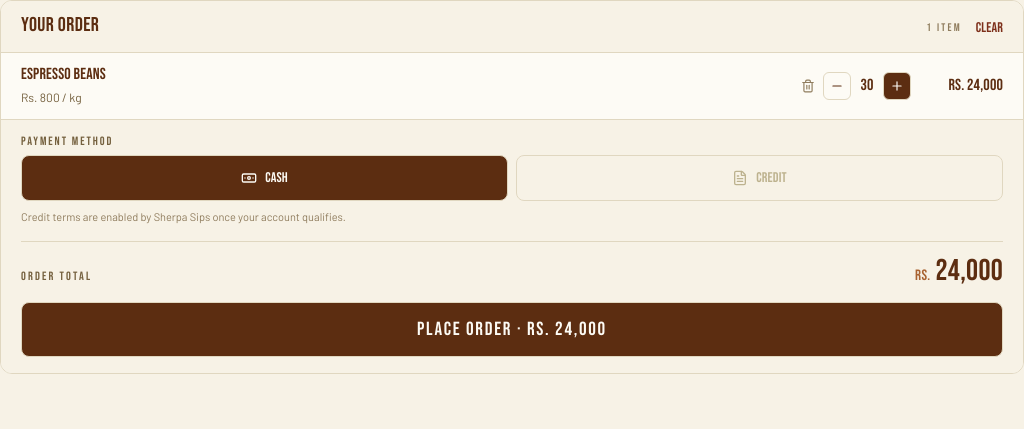
CartSection › asks for confirmation before placing a large order, and cancelling does not submit
Expected: the text "Espresso Beans" is shown, x1=21 y1=66 x2=106 y2=82
Click the button "Place Order · Rs. 24,000". click: (512, 330)
box: x1=21 y1=302 x2=1003 y2=357
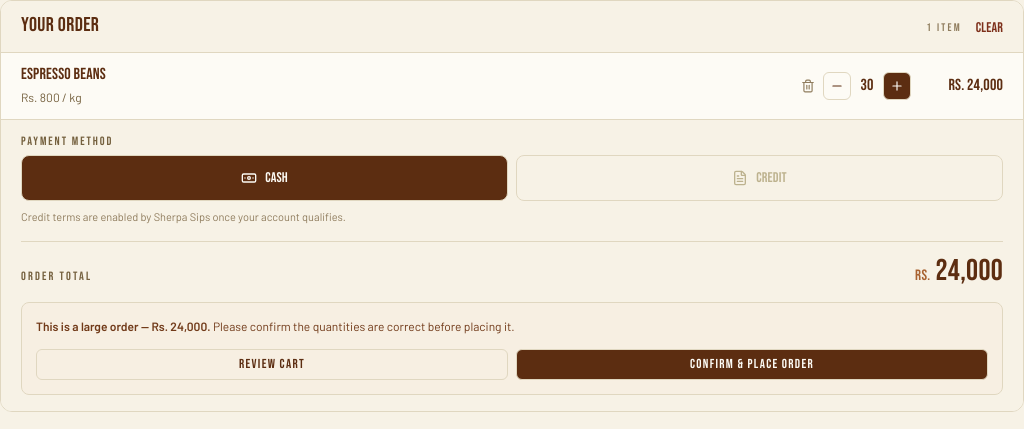
Expected: the text "This is a large order — Rs. 24,000." is shown, x1=36 y1=319 x2=210 y2=333
Click the button "Review Cart". click: (272, 364)
box: x1=36 y1=348 x2=508 y2=380
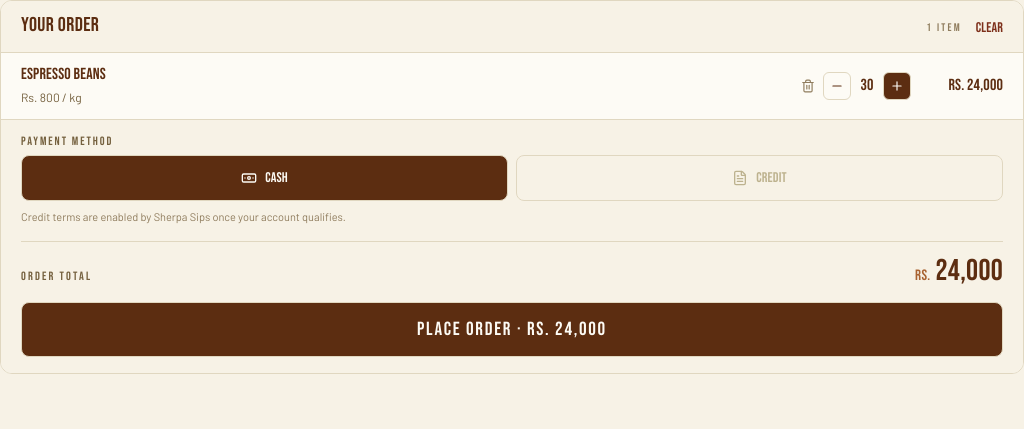
Expected: the text "This is a large order" is gone
Expected: the button "Place Order · Rs. 24,000" is shown, x1=21 y1=302 x2=1003 y2=357
